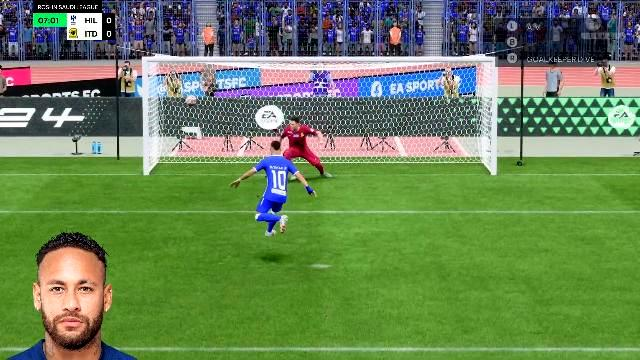bottom-left: (157, 132, 263, 180)
bottom-right: (376, 130, 484, 178)
center-down: (266, 131, 374, 179)
center-up: (265, 66, 373, 128)
football: (185, 93, 199, 107)
goalkeeper: (278, 119, 324, 177)
player: (230, 150, 322, 236)
top-left: (156, 67, 264, 129)
top-right: (374, 67, 486, 128)
